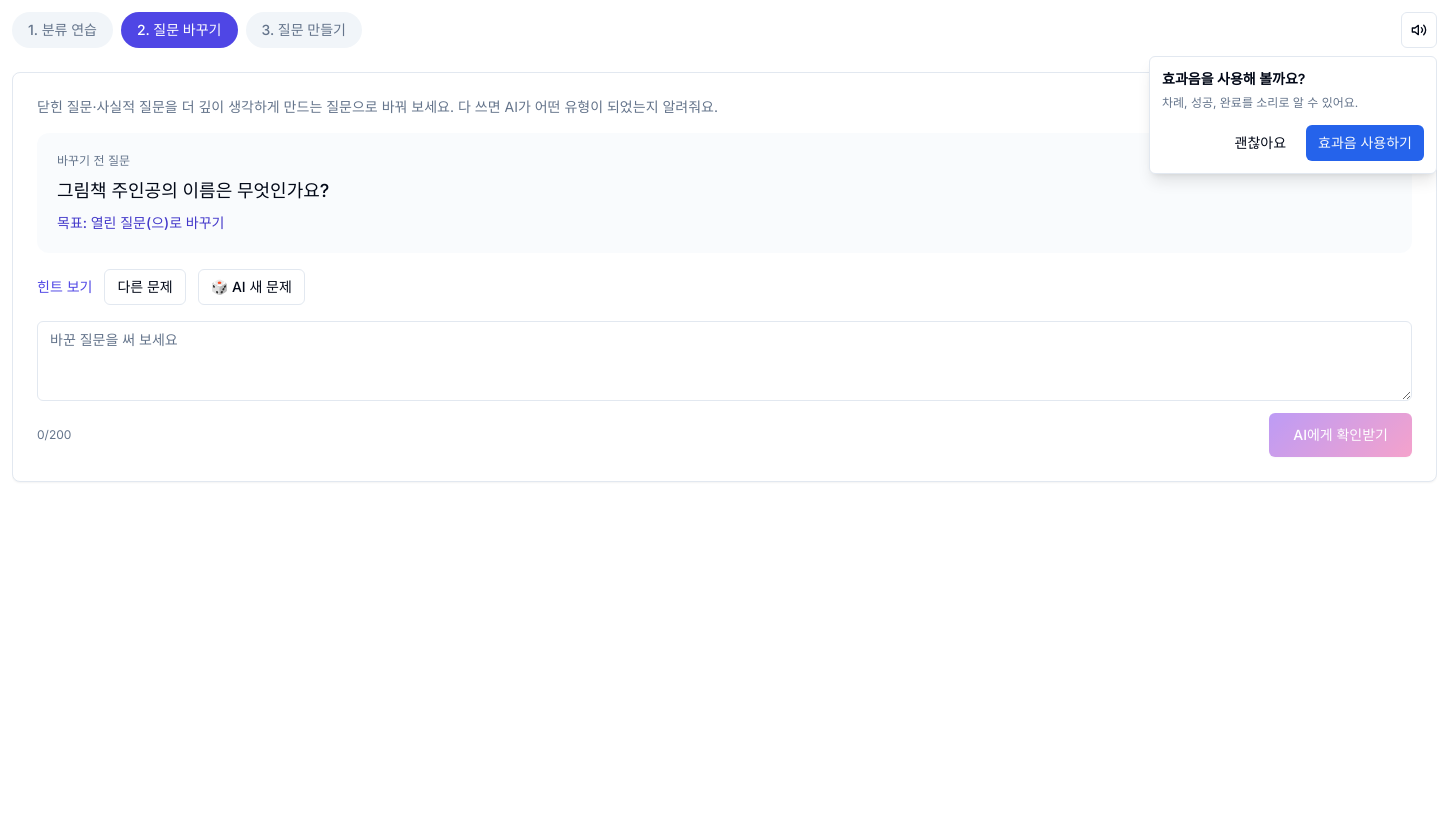
연습 질문 전달 › 목표에 이르지 못한 질문에도 다시 생각하기 효과음을 한 번만 재생한다
The image size is (1452, 822).
Type "우리나라의 수도는 어디인가요?" into the text box with placeholder "바꾼 질문을 써 보세요" at [724, 361], box [37,321,1412,401]
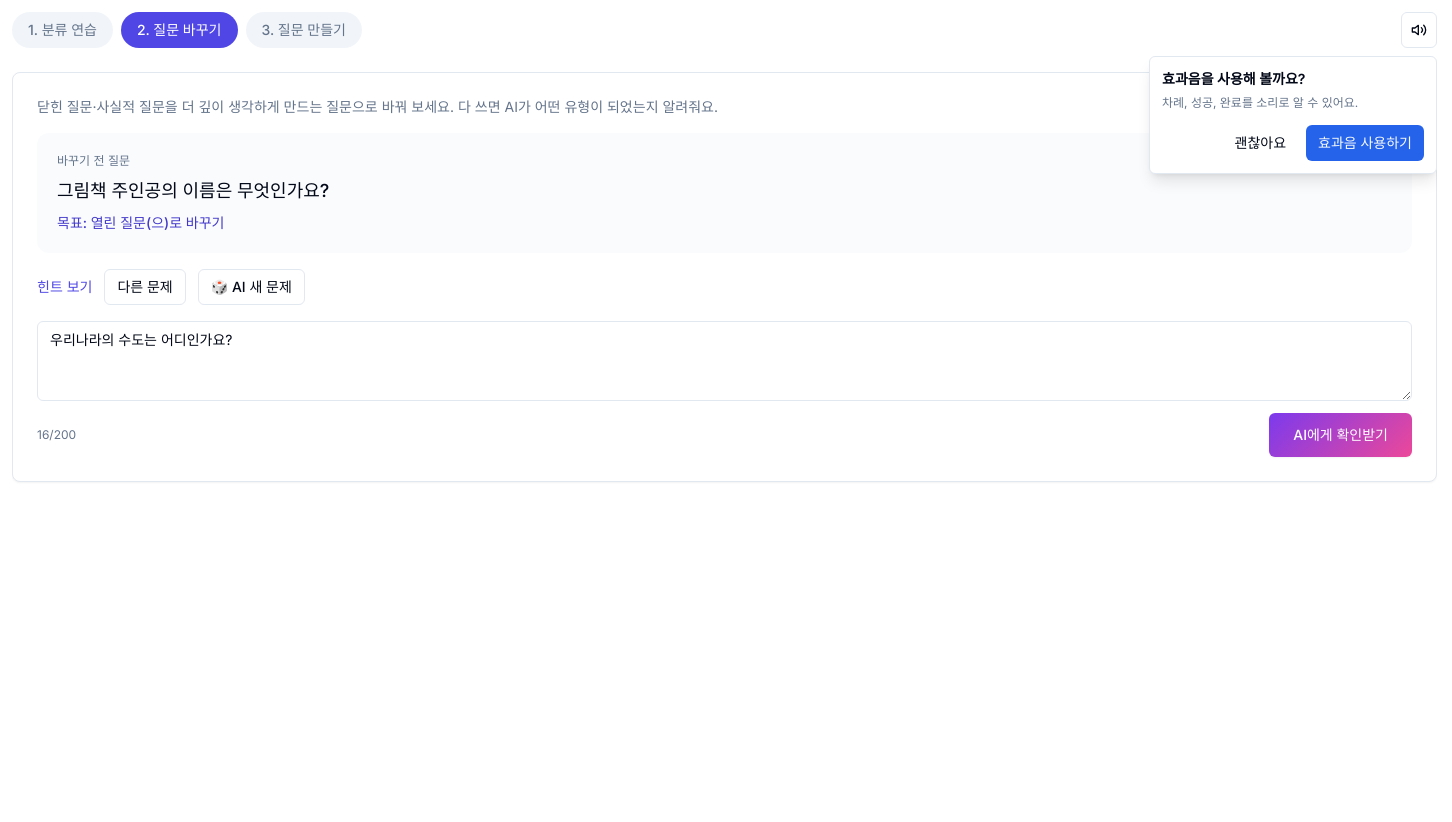
Click the button "AI에게 확인받기" at [1341, 435], box [1269,413,1412,457]
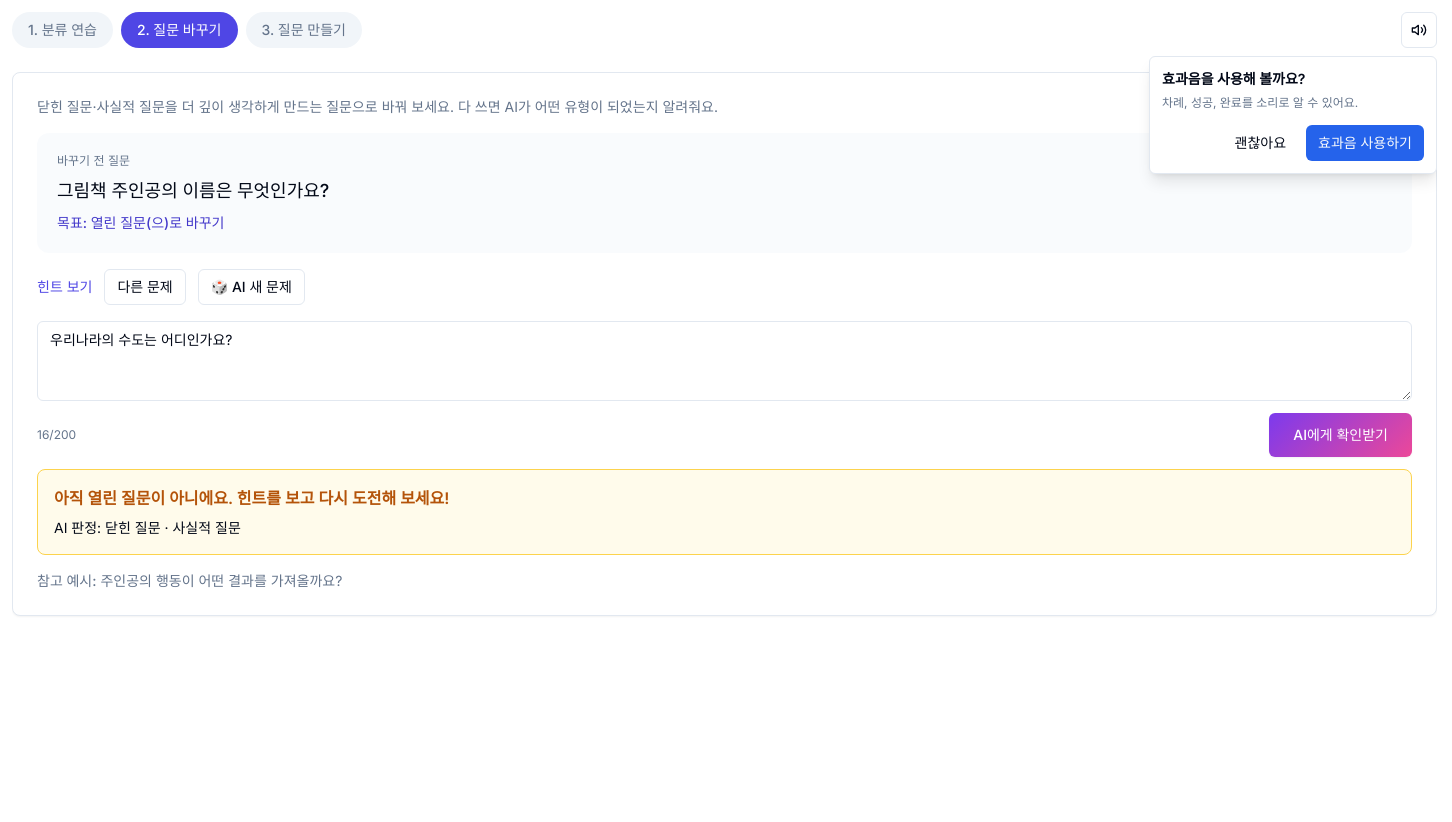
Expected: the text "아직 열린 질문이 아니에요. 힌트를 보고 다시 도전해 보세요!" is shown, [54,488,450,508]
